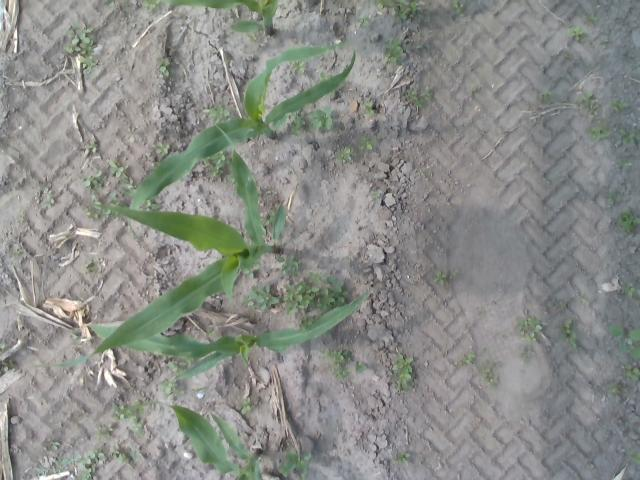Maize: (28, 122, 288, 368), (128, 41, 356, 212), (89, 287, 372, 382), (134, 401, 264, 479), (165, 0, 281, 37)
Weeds: (242, 253, 350, 312), (23, 440, 77, 480), (64, 21, 100, 77), (319, 348, 369, 387), (113, 400, 149, 438), (390, 342, 415, 392), (609, 324, 640, 360), (514, 310, 546, 343), (277, 450, 314, 478), (74, 448, 106, 480), (377, 0, 418, 22), (556, 316, 578, 350), (308, 104, 334, 132), (383, 34, 405, 66), (404, 88, 433, 110), (111, 443, 136, 468), (618, 207, 640, 234), (206, 154, 230, 178), (203, 102, 231, 122), (34, 186, 57, 210), (80, 168, 104, 189), (160, 376, 182, 397), (482, 362, 499, 388), (83, 199, 104, 220), (109, 162, 132, 181), (586, 123, 614, 138), (455, 349, 477, 368), (289, 113, 307, 136), (94, 422, 113, 442), (618, 127, 640, 144), (622, 364, 640, 382), (79, 142, 102, 156), (358, 134, 378, 150), (166, 360, 188, 374), (300, 312, 318, 329), (139, 0, 162, 13), (568, 24, 584, 42), (520, 346, 536, 364), (336, 146, 356, 160), (620, 282, 636, 299), (156, 57, 170, 76), (86, 259, 100, 278), (612, 98, 628, 114), (432, 270, 448, 286), (290, 61, 307, 76), (154, 142, 172, 156), (578, 92, 594, 107), (394, 450, 411, 464), (240, 398, 253, 416), (362, 100, 376, 116), (146, 198, 162, 212), (551, 298, 567, 312), (606, 382, 622, 395), (538, 89, 552, 102), (450, 1, 464, 14), (598, 34, 610, 49), (264, 210, 274, 227), (356, 15, 369, 28), (122, 180, 134, 193), (494, 330, 507, 342), (618, 158, 632, 169), (606, 190, 615, 206), (12, 245, 24, 257), (629, 451, 640, 463), (582, 294, 592, 307), (248, 31, 258, 43), (371, 189, 382, 199), (102, 0, 117, 7), (19, 210, 27, 223), (564, 50, 574, 60), (206, 329, 216, 339), (449, 267, 458, 278), (477, 308, 486, 318), (590, 12, 598, 22), (320, 70, 328, 80), (586, 462, 596, 470), (324, 331, 332, 340), (482, 345, 488, 356), (0, 343, 7, 350), (597, 116, 604, 122), (2, 367, 8, 374)
